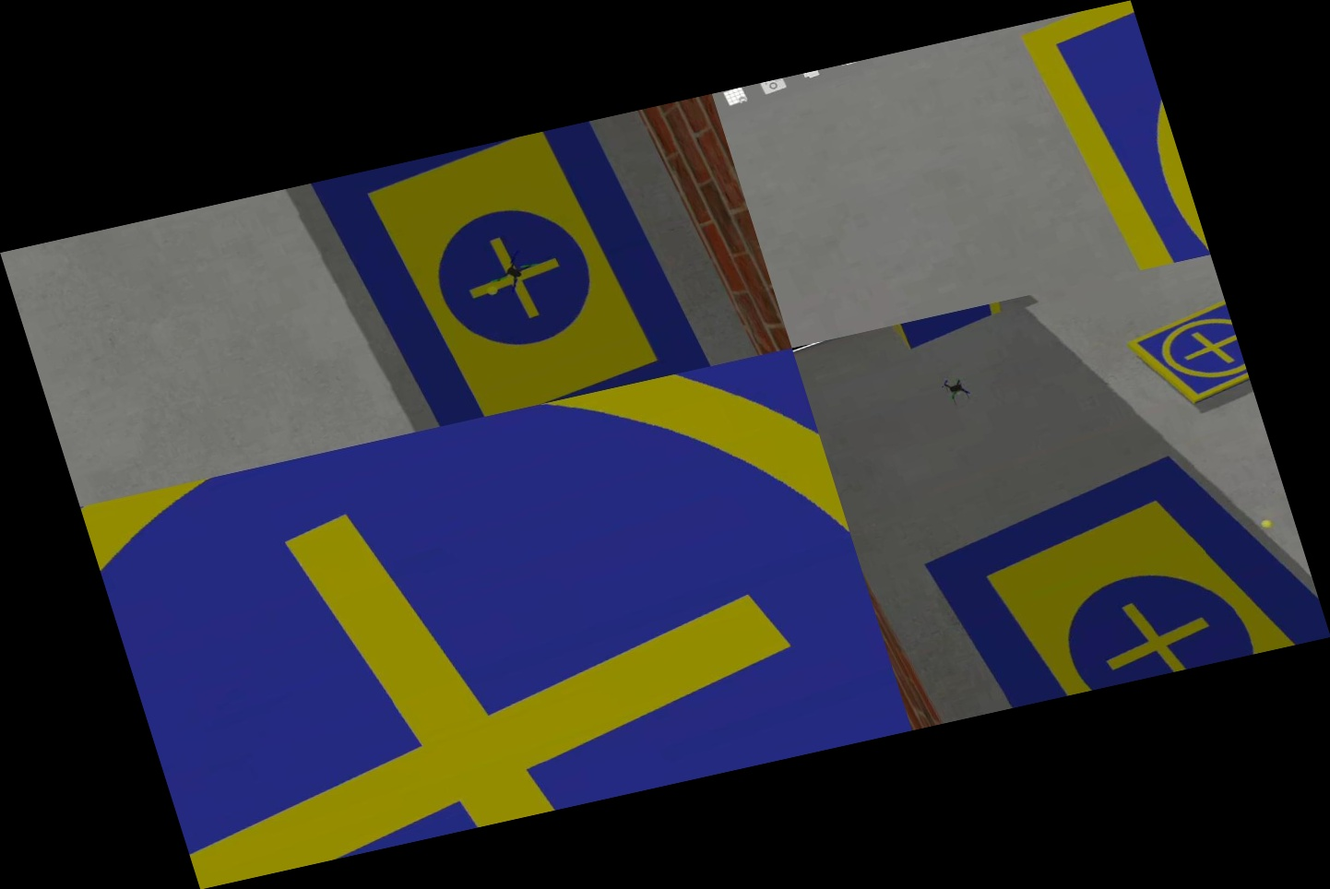large_base: (306, 111, 713, 438), (898, 414, 1330, 717)
small_base: (80, 348, 912, 888), (1017, 0, 1210, 279), (1117, 293, 1254, 420)
